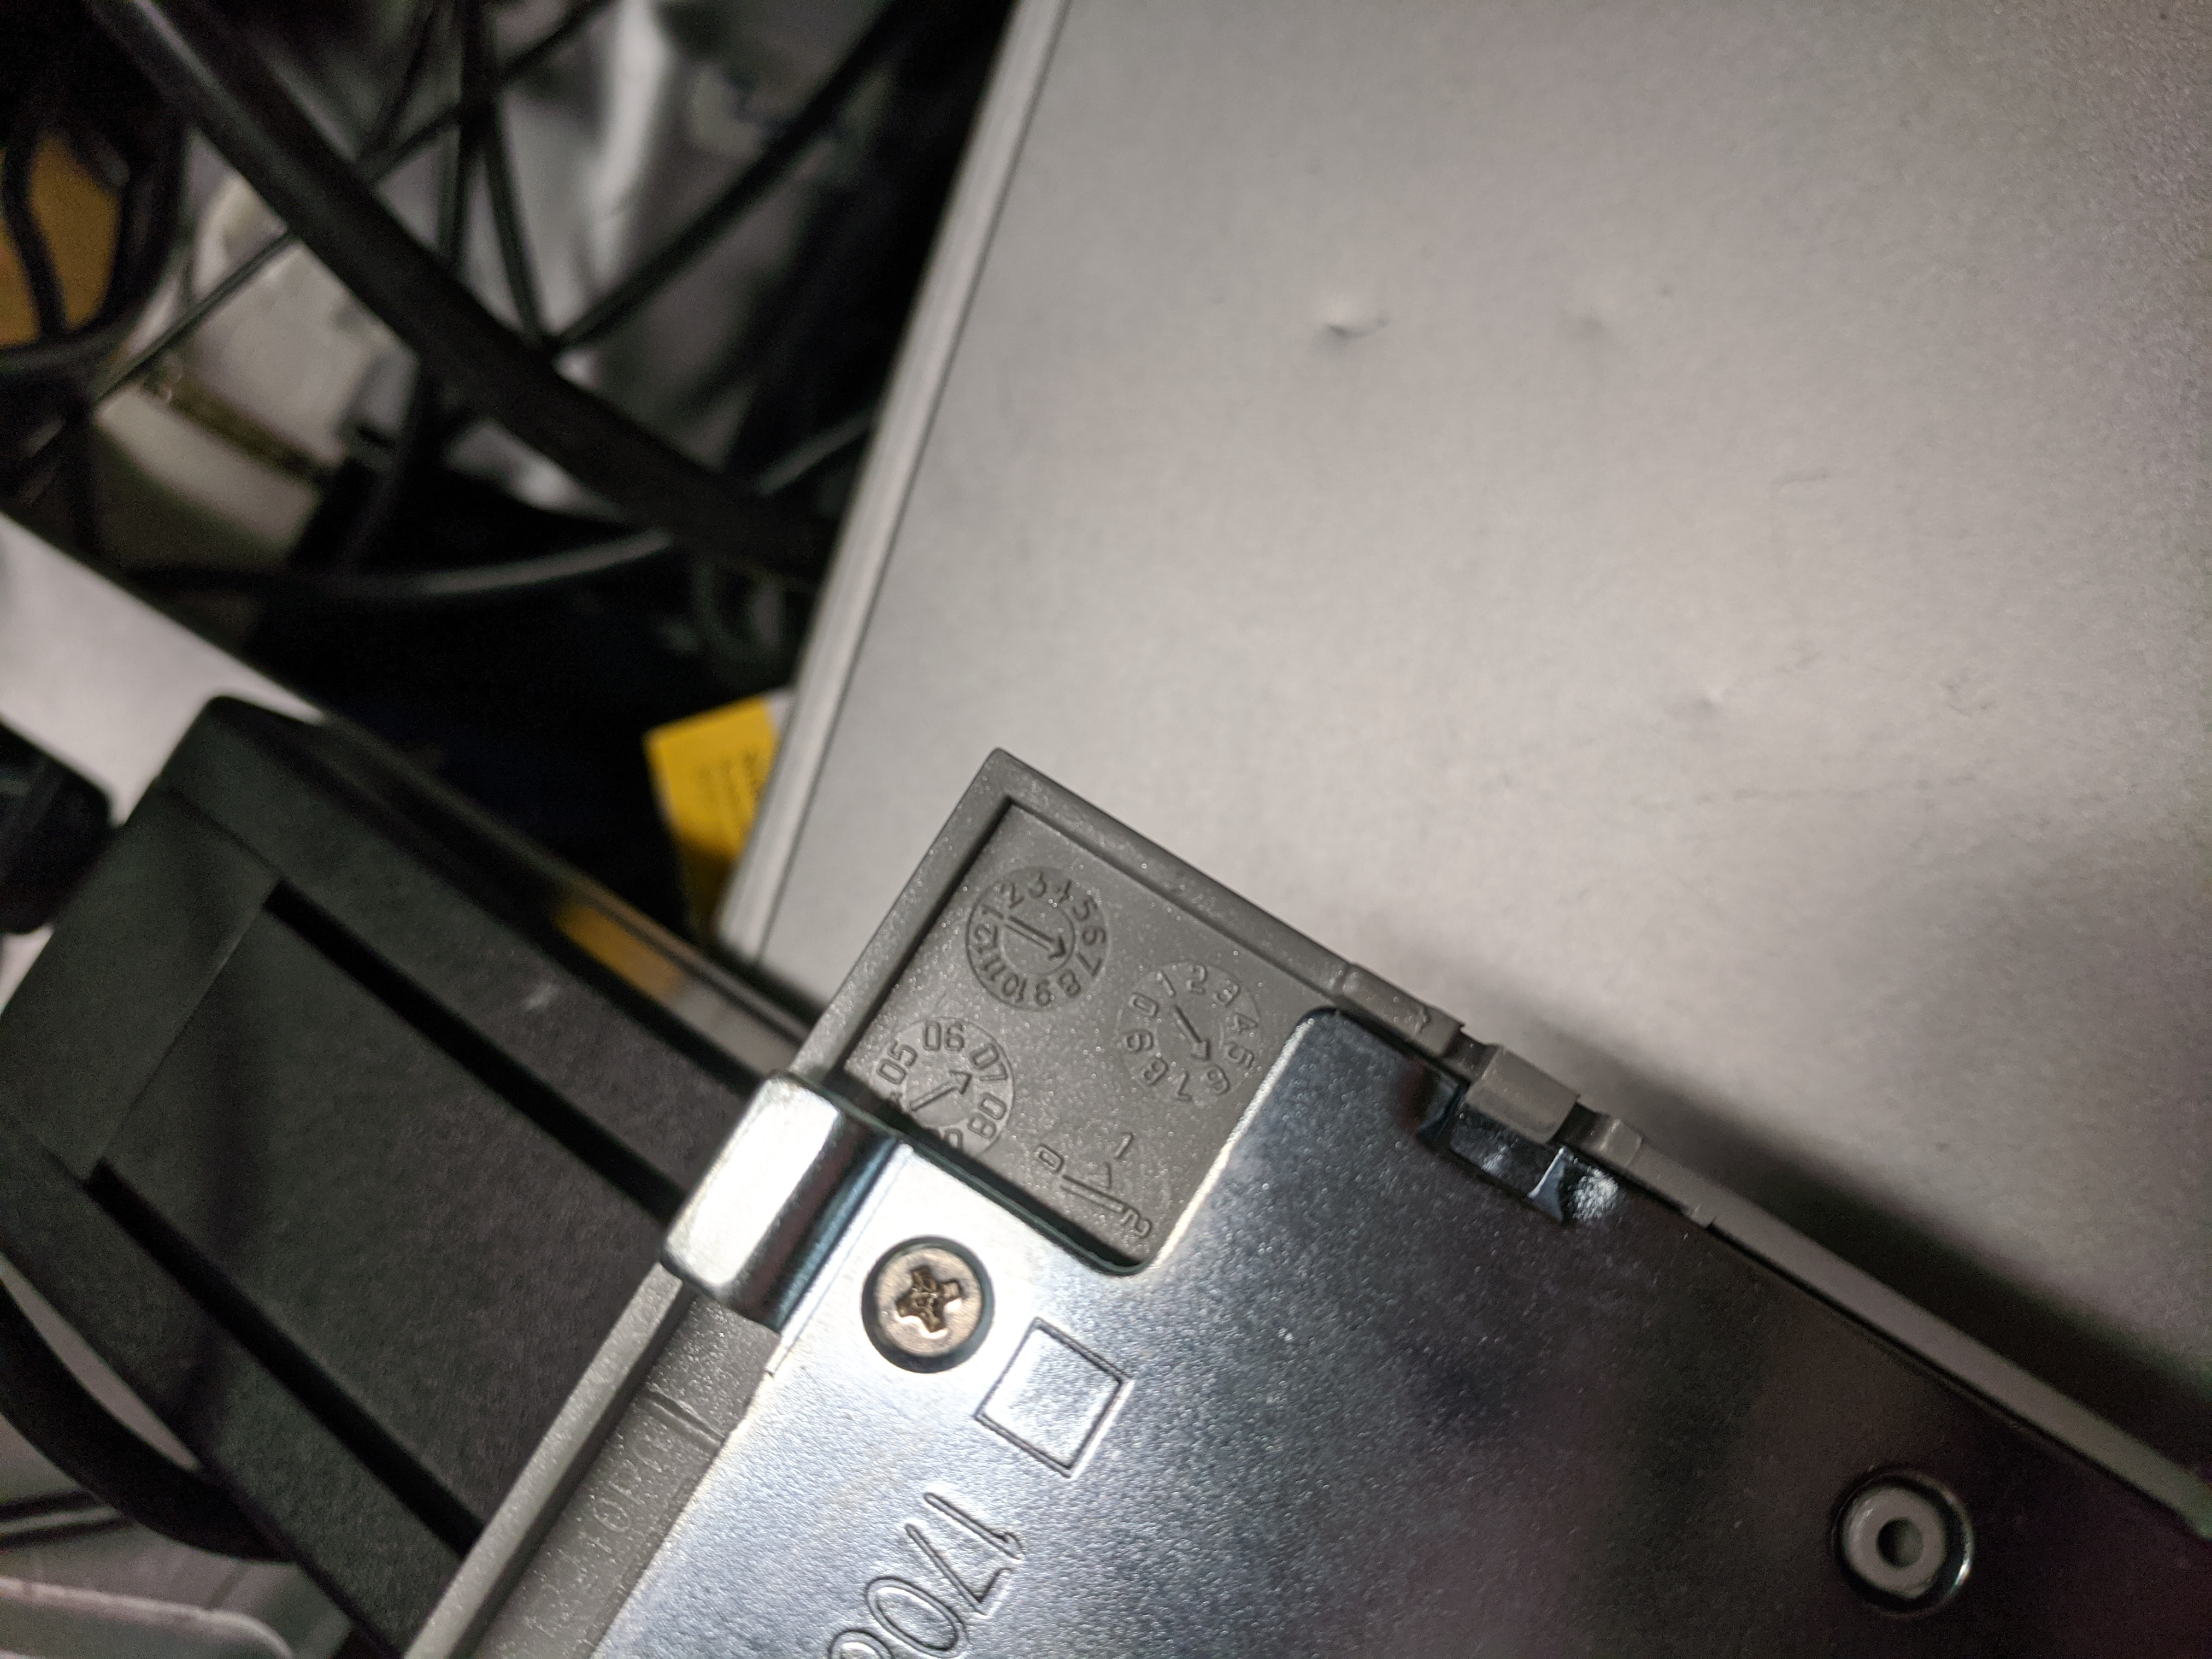cross_recessed_screw: (857, 1230, 995, 1370)
